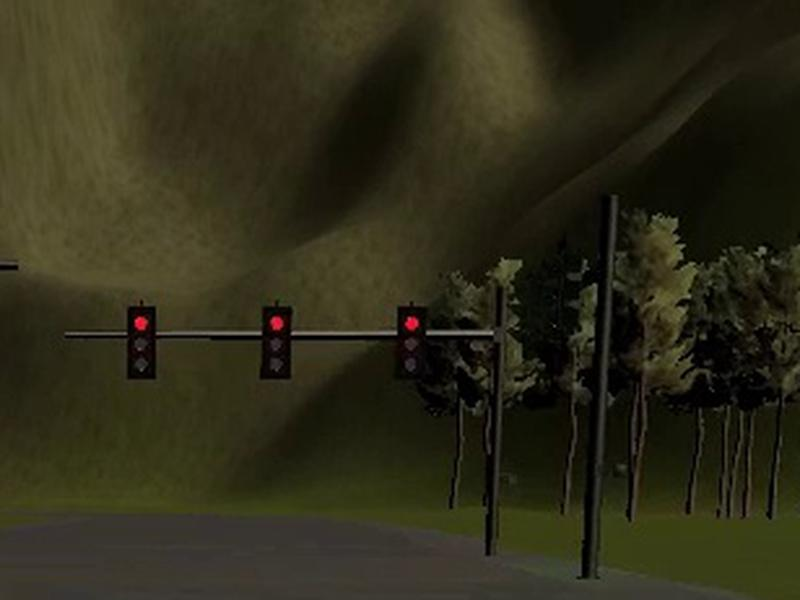Red: (395, 304, 427, 379), (262, 306, 291, 379), (128, 306, 156, 380)
